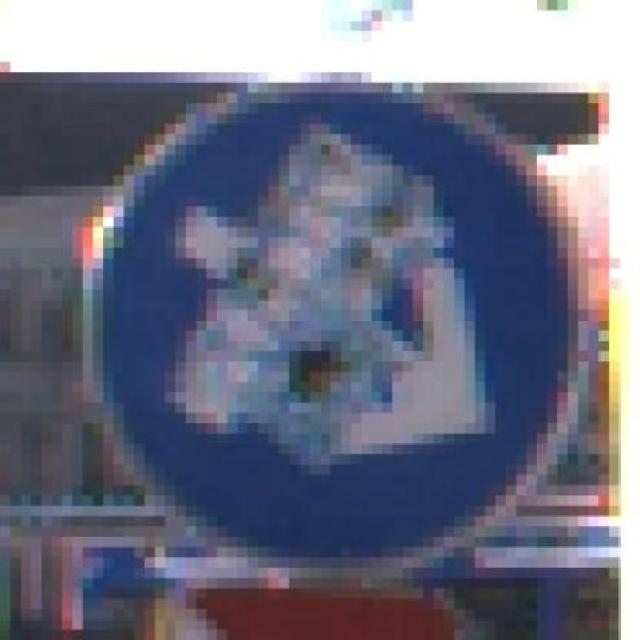Keep-Right: (52, 51, 619, 578)
